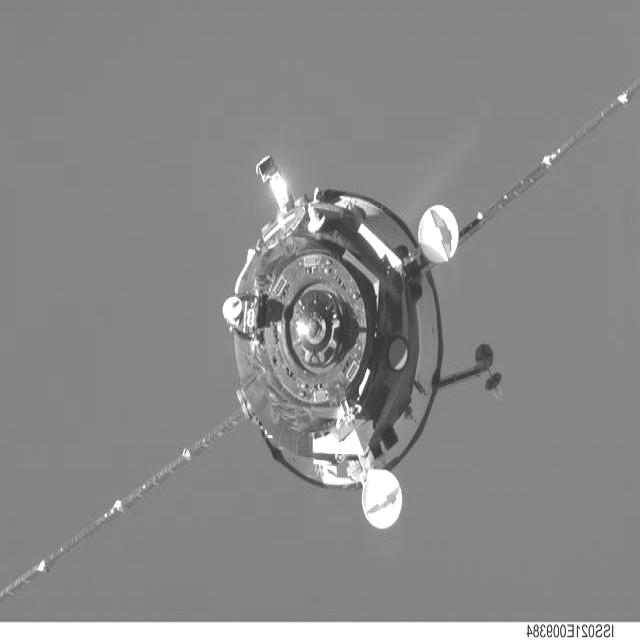medium_debris: (0, 78, 640, 601)
